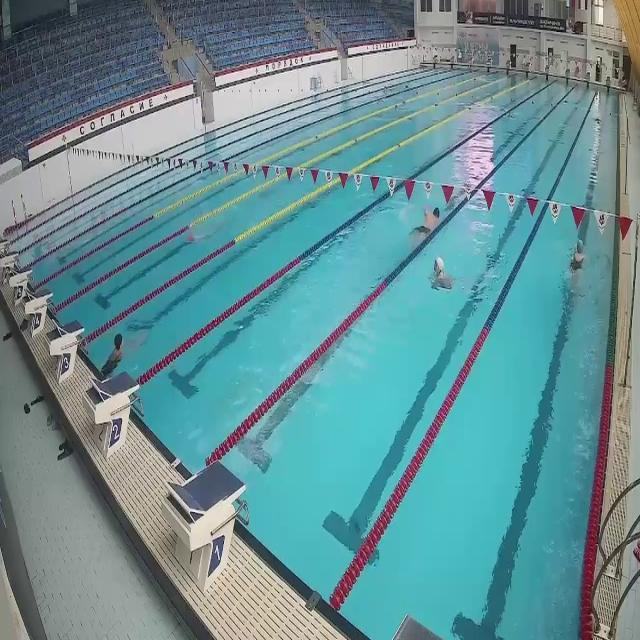Swimming: (403, 193, 455, 245), (98, 332, 146, 377), (566, 232, 595, 289), (432, 262, 460, 303)
